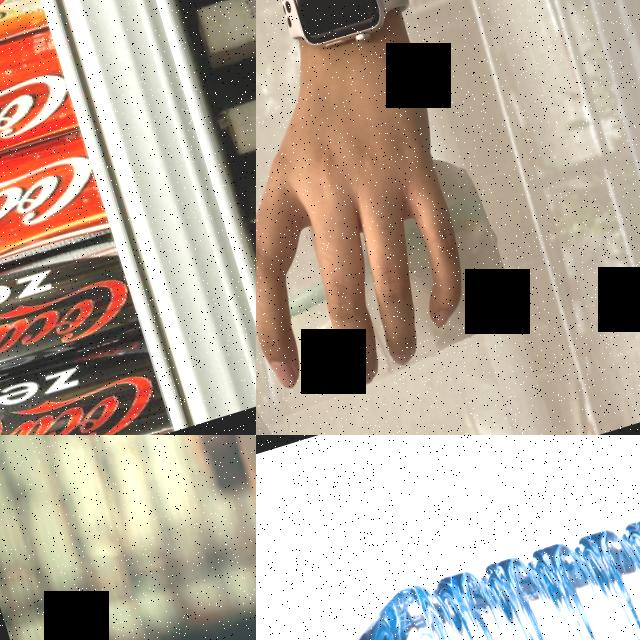bottle: (256, 451, 640, 640)
can: (0, 230, 142, 435), (0, 126, 112, 335), (0, 328, 173, 435), (0, 25, 80, 232)
cup: (256, 115, 535, 435)
